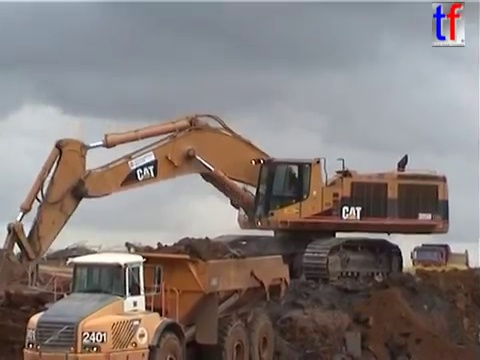excavator: (1, 111, 452, 300)
truck: (20, 247, 292, 360), (408, 242, 471, 278)
